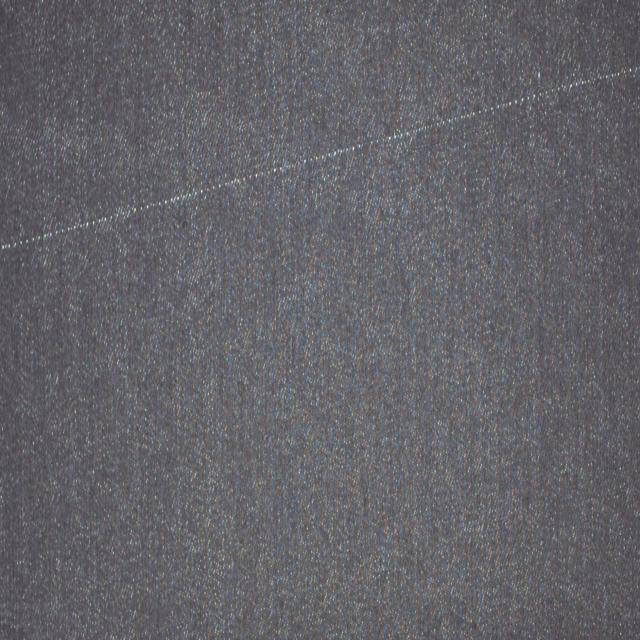Knot: (539, 71, 542, 78)
